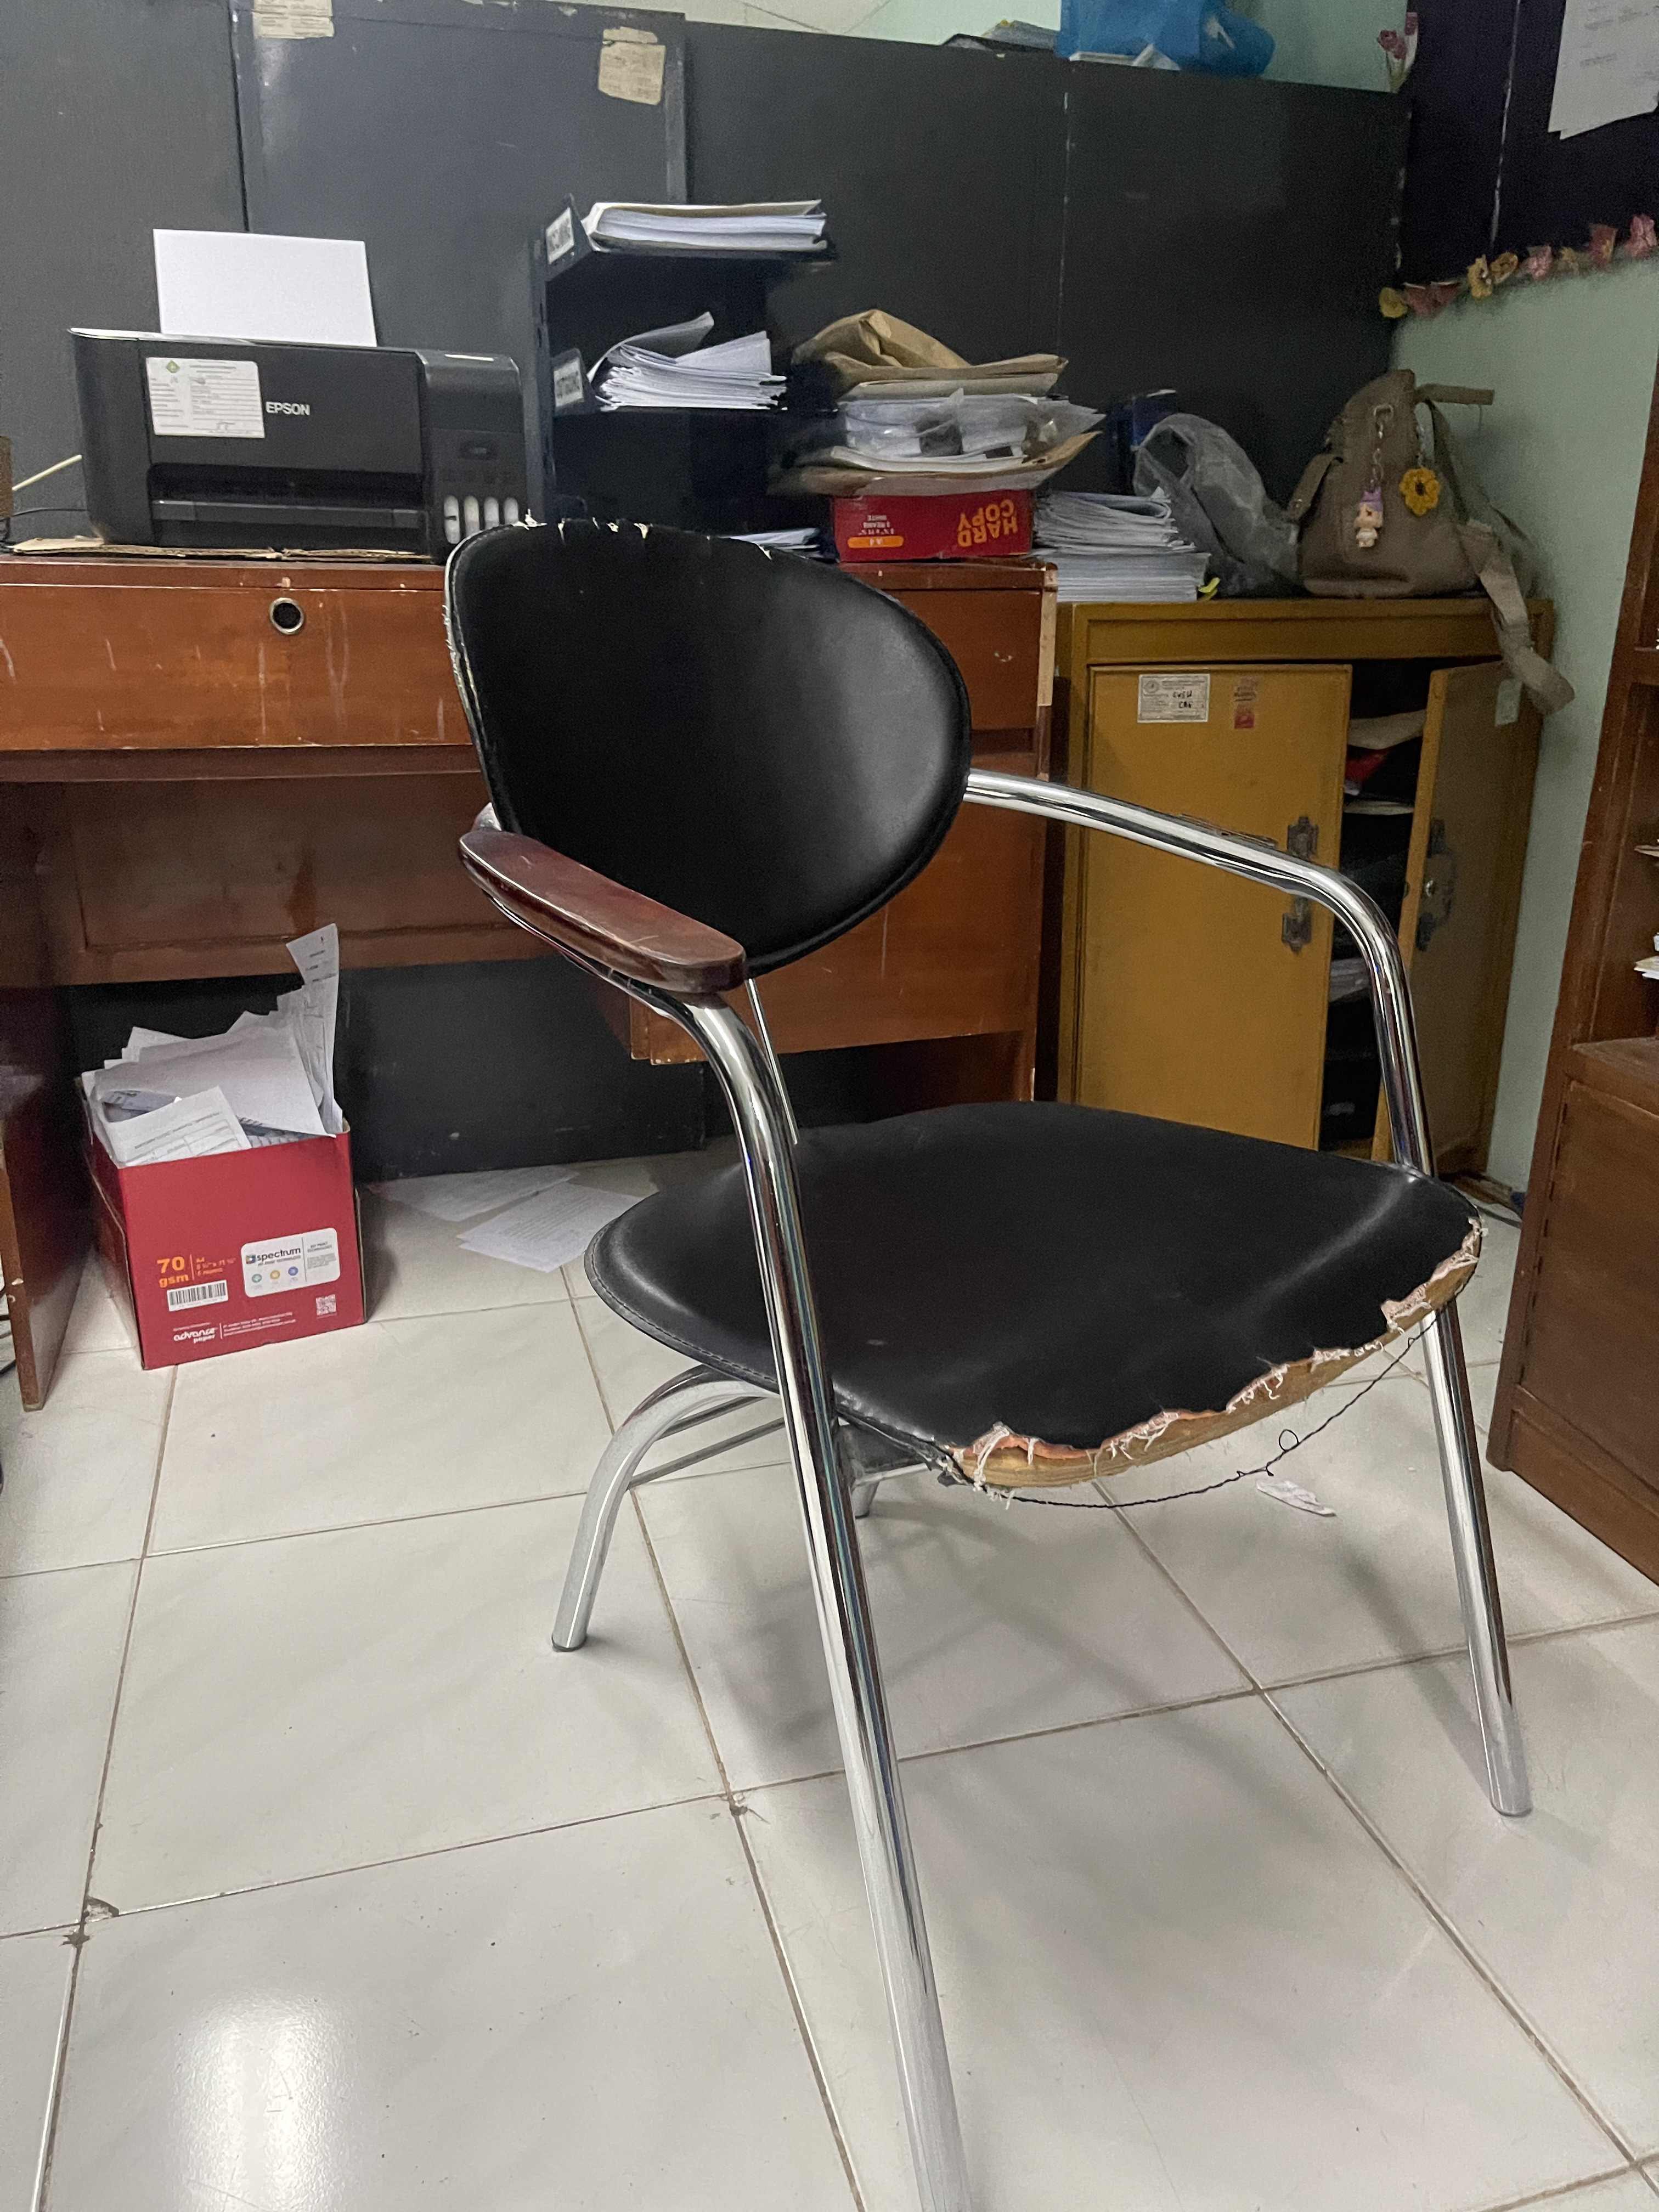chair1: (436, 519, 1553, 2212)
